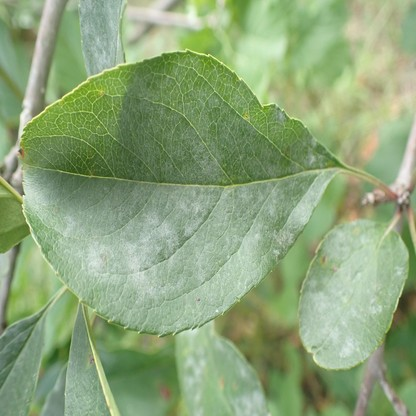powdery_mildew: (18, 50, 345, 336), (298, 216, 411, 372), (78, 0, 125, 74), (182, 329, 211, 416), (231, 385, 268, 416), (231, 352, 248, 380), (214, 339, 223, 352)
